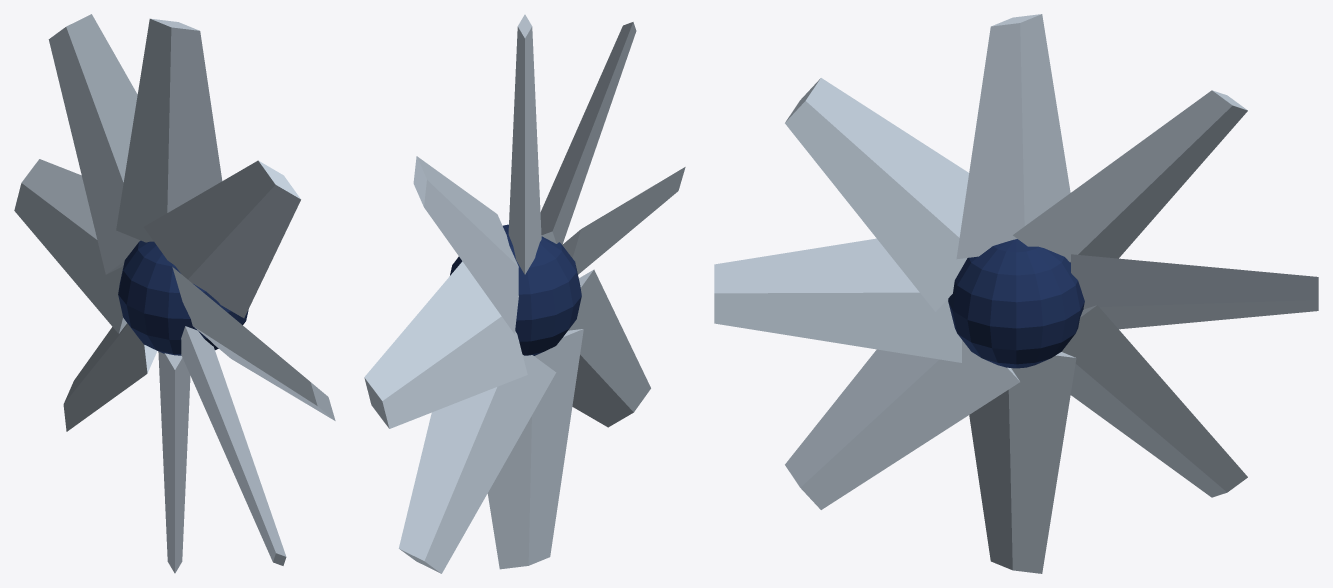
The model's file is Dirigeable_Helice.glb.
3 renders of one model, left to right at view 1: azimuth 30°, elevation 25°; view 2: azimuth 150°, elevation 25°; view 3: azimuth 270°, elevation 25°, orthographic.
Visible parts, largest first — view 1: Dirigeable_Helice; view 2: Dirigeable_Helice; view 3: Dirigeable_Helice.
Part boxes in pixels (x1,y1,x2,y2): Dirigeable_Helice: (14,14,335,573); Dirigeable_Helice: (364,14,685,573); Dirigeable_Helice: (714,14,1318,573).
Bounding box in the file's own units: 0.56 × 2.44 × 2.44.
